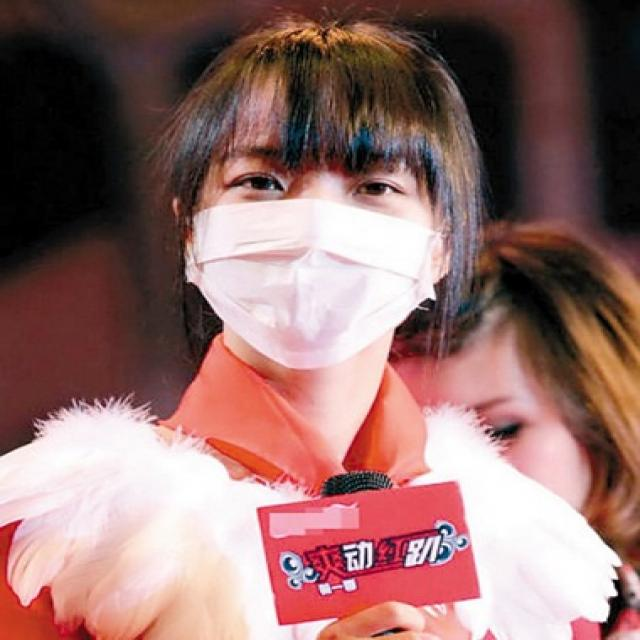mask: (198, 73, 432, 371)
nomask: (378, 314, 582, 569)
